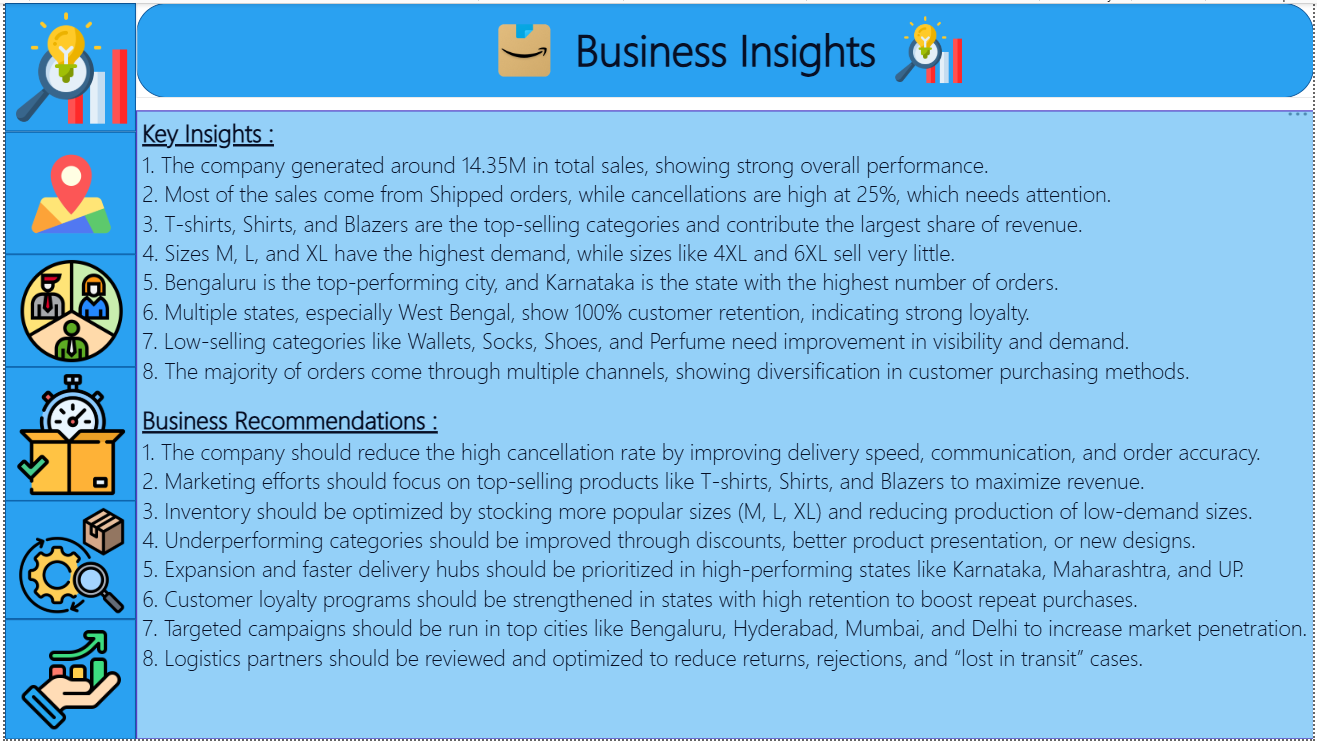

The dashboard page shown, as its layout file describes it:
{"tool":"powerbi","page":{"name":"Business Insights","canvas":[1280,720],"ordinal":5},"visuals":[{"type":"textbox","box":[128.4,0,1151.9,92.9],"z":0},{"type":"image","box":[452.4,0,111.3,92.9],"z":1000},{"type":"image","box":[0,245.8,128.4,110.1],"z":2000},{"type":"image","box":[0,0,128.4,126],"z":3000},{"type":"image","box":[0,355.8,128.4,130.8],"z":4000},{"type":"image","box":[0,126,128.4,119.8],"z":5000},{"type":"image","box":[853.5,6.1,100.3,79.5],"z":6000},{"type":"image","box":[0,486.7,128.4,116.2],"z":7000},{"type":"image","box":[0,602.9,128.4,117.4],"z":8000},{"type":"textbox","box":[128.4,105.2,1151.9,615.1],"z":9000}]}

Visuals, with their boxes in screenshot pixels (x1, y1, x2, y2), scaled from the page's 1280x720 canvas onto the 1317x742 screenshot:
textbox: {"left": 132, "top": 0, "right": 1316, "bottom": 96}
image: {"left": 465, "top": 0, "right": 580, "bottom": 96}
image: {"left": 0, "top": 253, "right": 132, "bottom": 367}
image: {"left": 0, "top": 0, "right": 132, "bottom": 130}
image: {"left": 0, "top": 367, "right": 132, "bottom": 501}
image: {"left": 0, "top": 130, "right": 132, "bottom": 253}
image: {"left": 878, "top": 6, "right": 981, "bottom": 88}
image: {"left": 0, "top": 502, "right": 132, "bottom": 621}
image: {"left": 0, "top": 621, "right": 132, "bottom": 741}
textbox: {"left": 132, "top": 108, "right": 1316, "bottom": 741}
